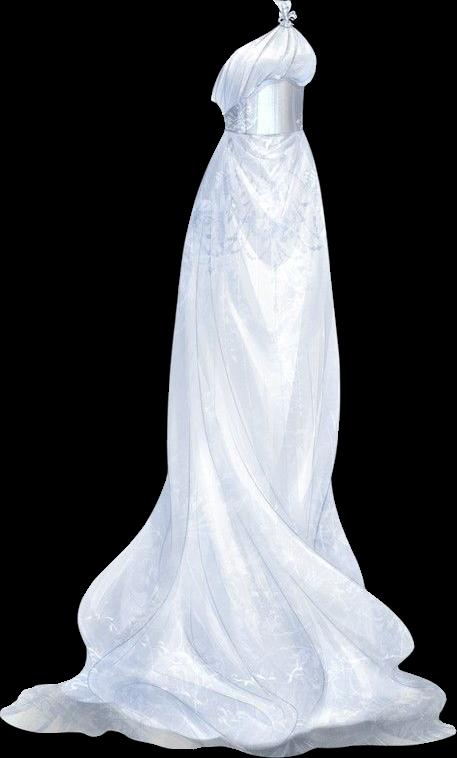Bodice: (211, 0, 316, 139)
Hemline: (0, 707, 456, 757)
Neckline: (206, 0, 285, 99), (223, 73, 305, 118)
Skirt: (0, 133, 456, 757)
Waistline: (223, 128, 305, 145)
